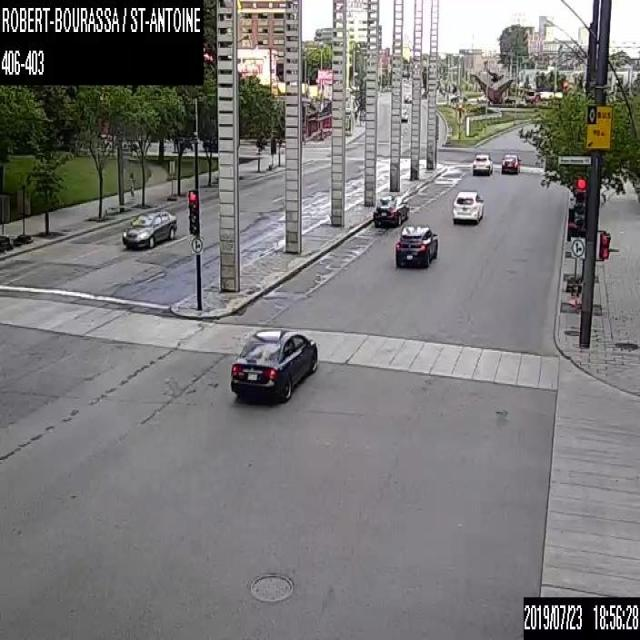construction: (14, 184, 32, 242), (0, 192, 11, 249), (166, 159, 176, 200)
pedestrian: (128, 172, 135, 200)
vehicle: (230, 326, 317, 407), (122, 208, 176, 248), (395, 223, 437, 268), (373, 194, 409, 226), (451, 188, 485, 220), (472, 152, 492, 175), (500, 151, 520, 172), (400, 107, 408, 120), (403, 92, 411, 101)
